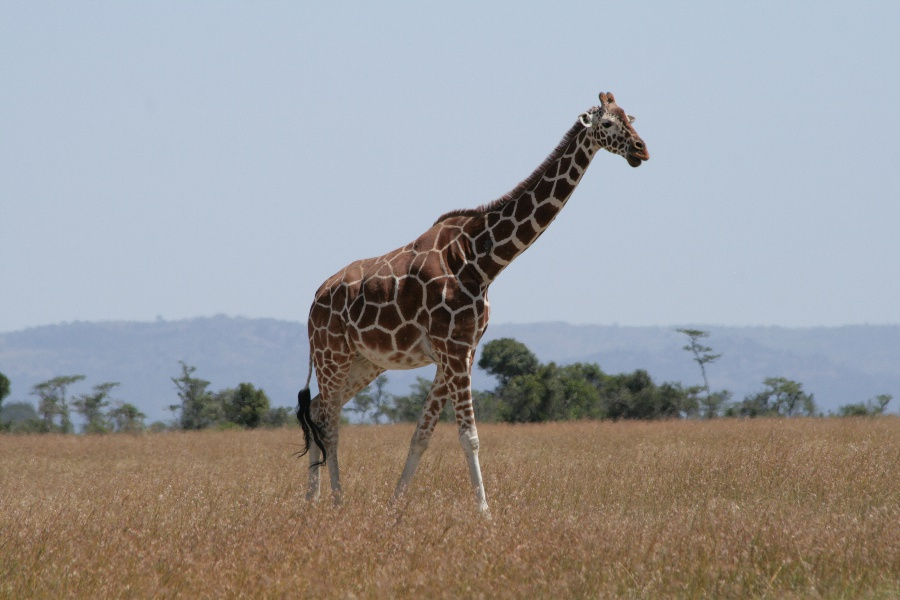giraffe: (287, 86, 650, 514)
